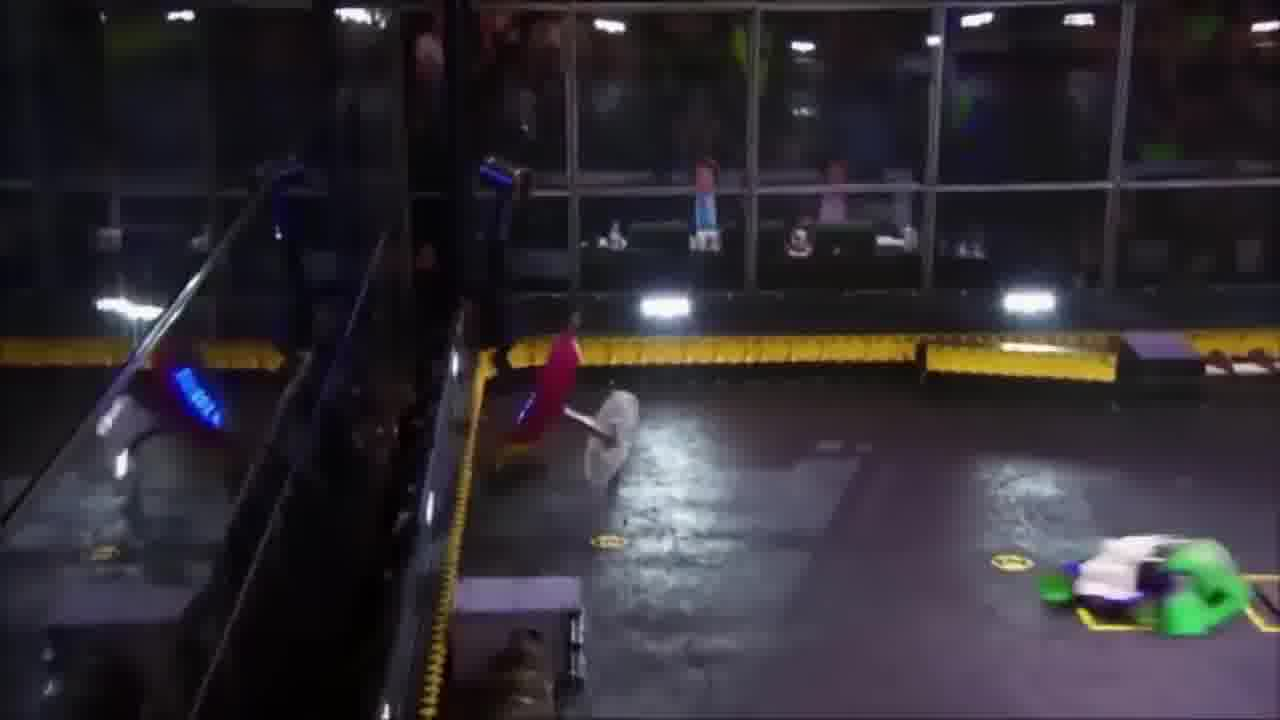combatbot: (1050, 533, 1250, 639), (505, 333, 640, 484)
